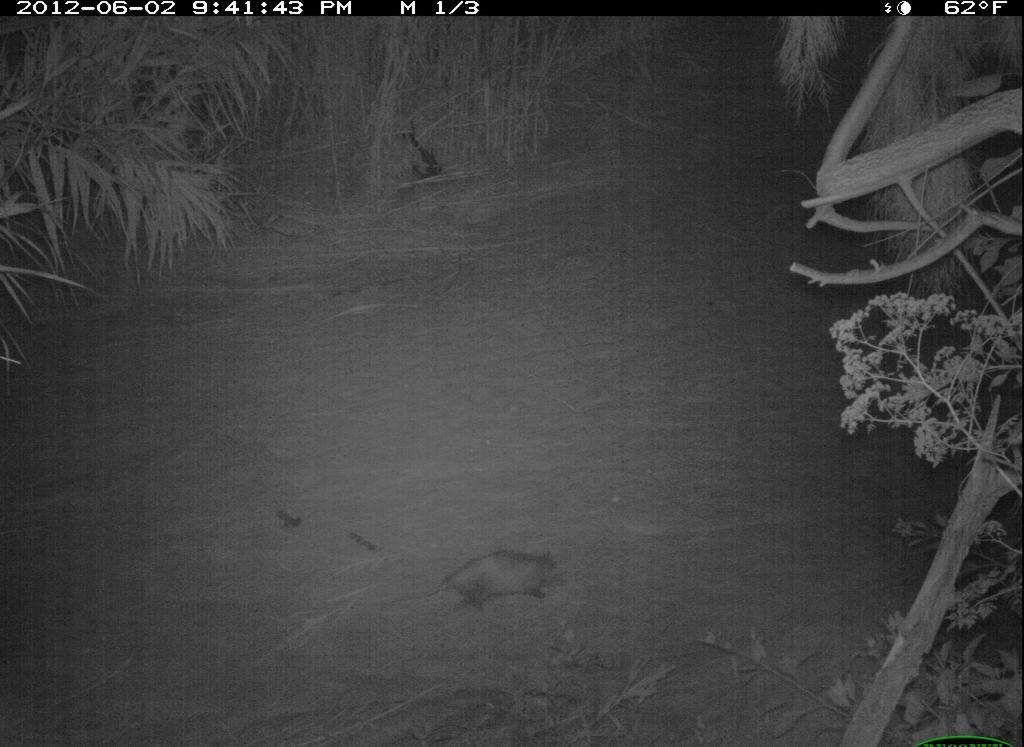opossum: (409, 542, 578, 619)
